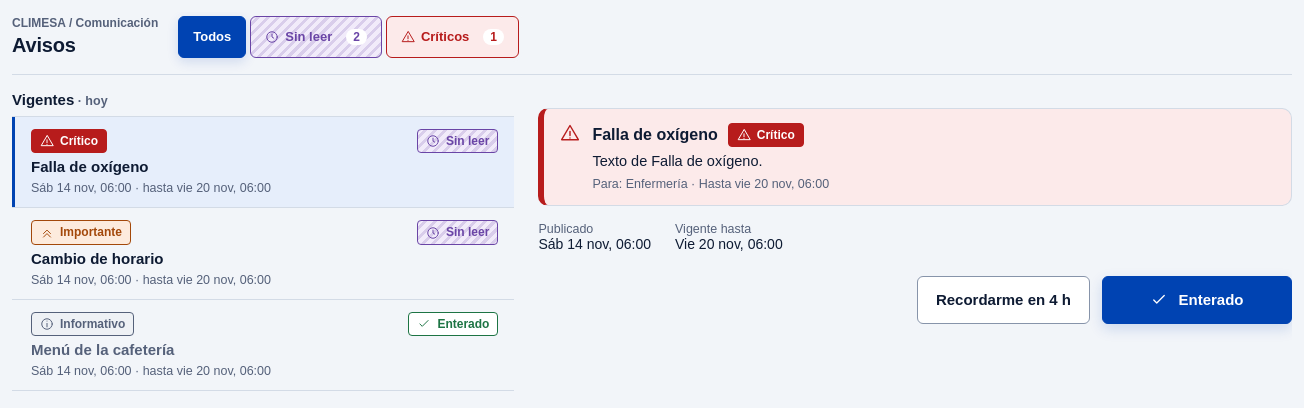
it: S11 · área de Avisos › lista mis avisos con los críticos primero y filtra por sin leer y críticos
Click the button "Sin leer 2".
click(316, 37)  # box top-left (250, 16), bottom-right (382, 58)
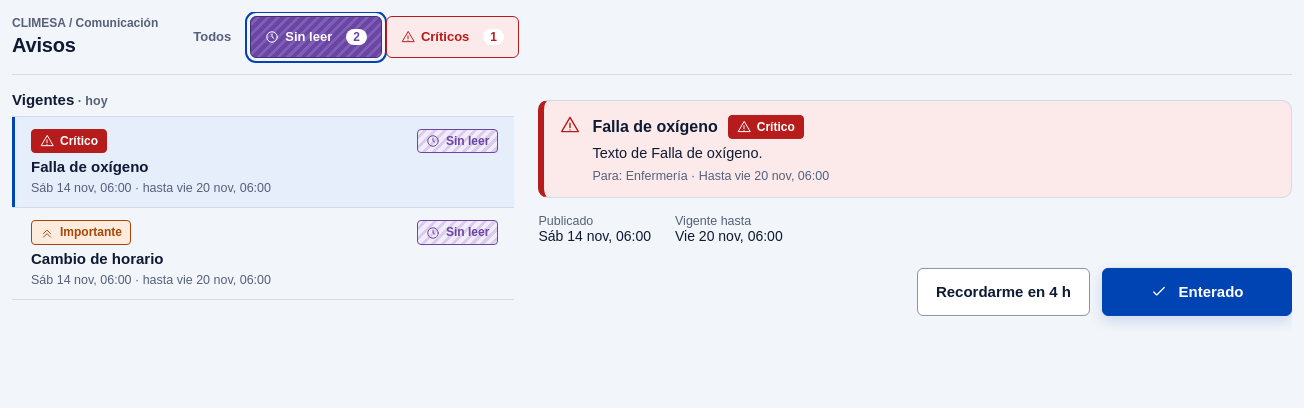
Check: the button "Menú de la cafetería" is gone
Click the button "Críticos 1".
click(452, 37)  # box top-left (386, 16), bottom-right (519, 58)
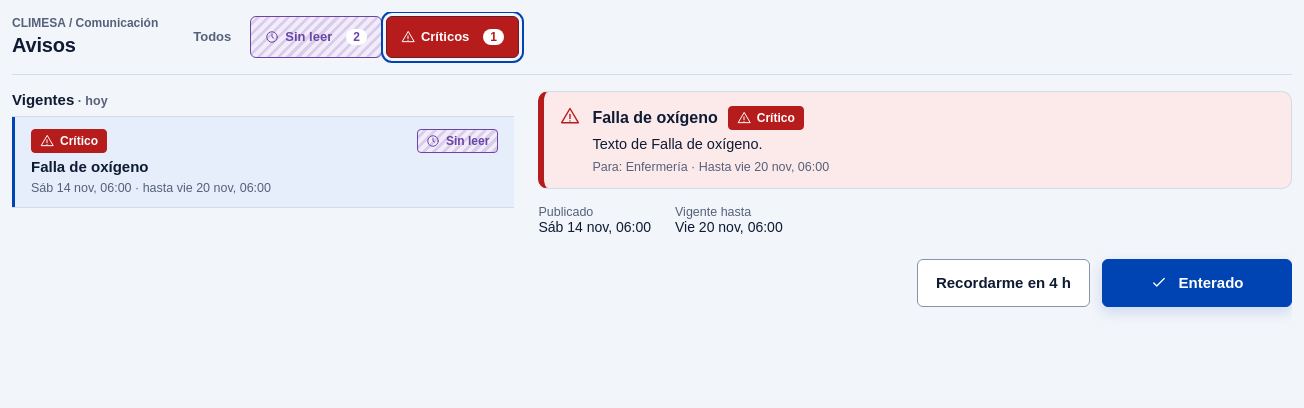
Check: the number of list items is 1, box top-left (12, 117), bottom-right (514, 208)
